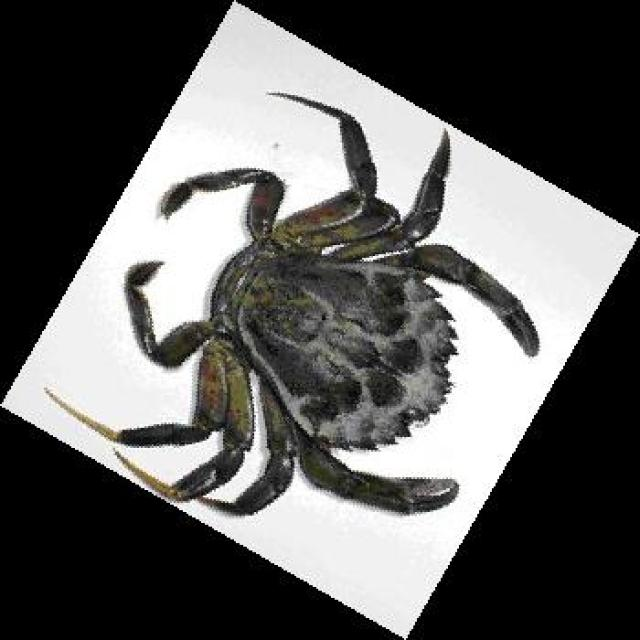European Green crab: (48, 91, 539, 514)
